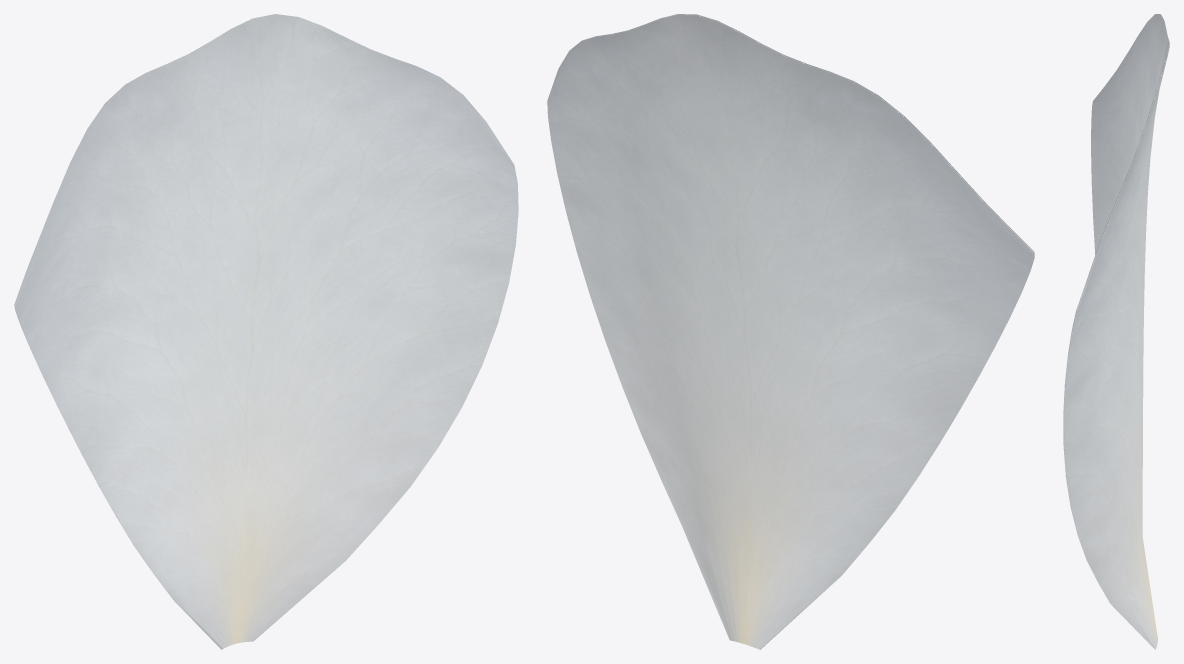
File: outer_04.glb
The picture shows the model from 3 angles, left to right: view 1: azimuth 30°, elevation 25°; view 2: azimuth 150°, elevation 25°; view 3: azimuth 270°, elevation 25°; orthographic projection. The views are drawn at different scales.
Parts seen in each view (by area): view 1: outer_04; view 2: outer_04; view 3: outer_04.
Boxes of the visible parts, <box> form: outer_04: <box>14,14,518,649</box>; outer_04: <box>547,14,1034,649</box>; outer_04: <box>1063,14,1169,649</box>.
Bounding box in the file's own units: 0.0748 × 0.0898 × 0.0143.
Materials: 1 (1 with a texture image).
